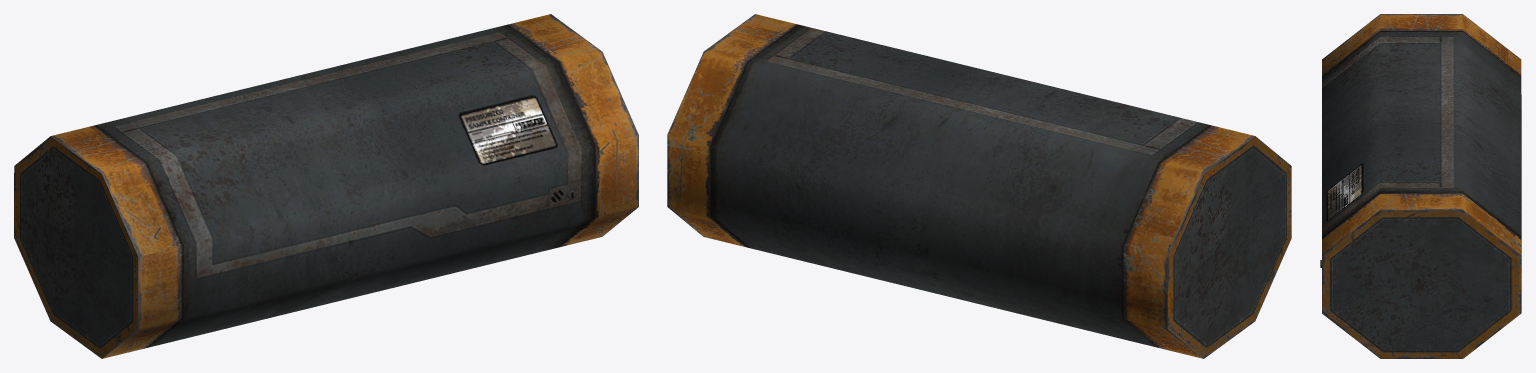
The model's file is sample_container_large.DAE.
3 views of the same model, side by side, from view 1: azimuth 30°, elevation 25°; view 2: azimuth 150°, elevation 25°; view 3: azimuth 270°, elevation 25° (orthographic). The views are drawn at different scales.
Parts seen in each view (by area): view 1: sample_container_large; view 2: sample_container_large; view 3: sample_container_large.
Part boxes in pixels (box(x1,y1,x2,y2)): sample_container_large: box(14, 14, 638, 358); sample_container_large: box(667, 14, 1291, 358); sample_container_large: box(1320, 14, 1521, 358).
Bounding box in the file's own units: 73.55 × 26.02 × 31.87.
